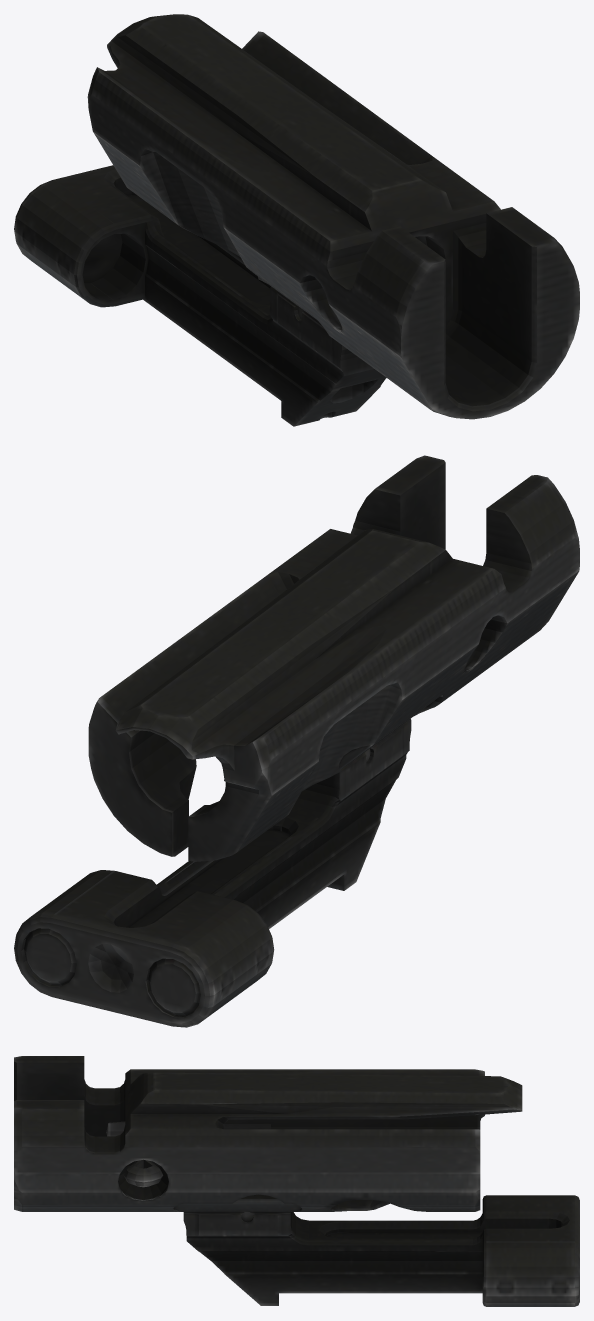
3 renders of one model, top to bottom at view 1: azimuth 30°, elevation 25°; view 2: azimuth 150°, elevation 25°; view 3: azimuth 270°, elevation 25°, orthographic. The views are drawn at different scales.
Parts seen in each view (by area): view 1: TW_58948c8e86f77409493f7266_PZ_Import; view 2: TW_58948c8e86f77409493f7266_PZ_Import; view 3: TW_58948c8e86f77409493f7266_PZ_Import.
Boxes of the visible parts, bbox=[...] form: TW_58948c8e86f77409493f7266_PZ_Import: bbox=[14, 14, 579, 426]; TW_58948c8e86f77409493f7266_PZ_Import: bbox=[14, 455, 579, 1027]; TW_58948c8e86f77409493f7266_PZ_Import: bbox=[14, 1056, 579, 1306].
Size of the model in its own units: 0.0162 by 0.0533 by 0.0224.
1 material, 1 textured.
